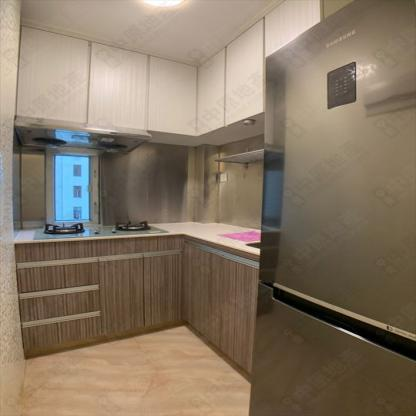Cupboard: (16, 0, 318, 136), (15, 234, 259, 380)
Exhaust Hood: (16, 117, 149, 156)
Fridge: (250, 0, 415, 414)
Stove: (28, 220, 172, 240)
